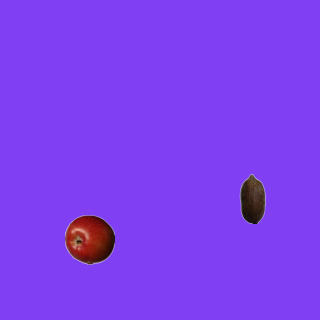Apple Braeburn: (64, 214, 114, 264)
Nut Pecan: (227, 173, 277, 223)
